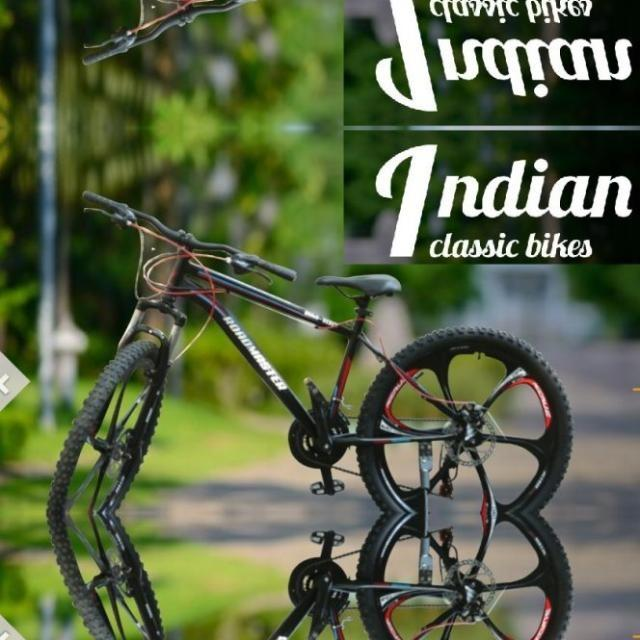obstacle: (69, 180, 601, 512), (69, 512, 601, 640), (69, 0, 601, 74)
